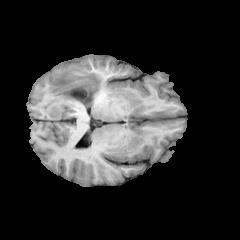glioma: (47, 70, 137, 105)
